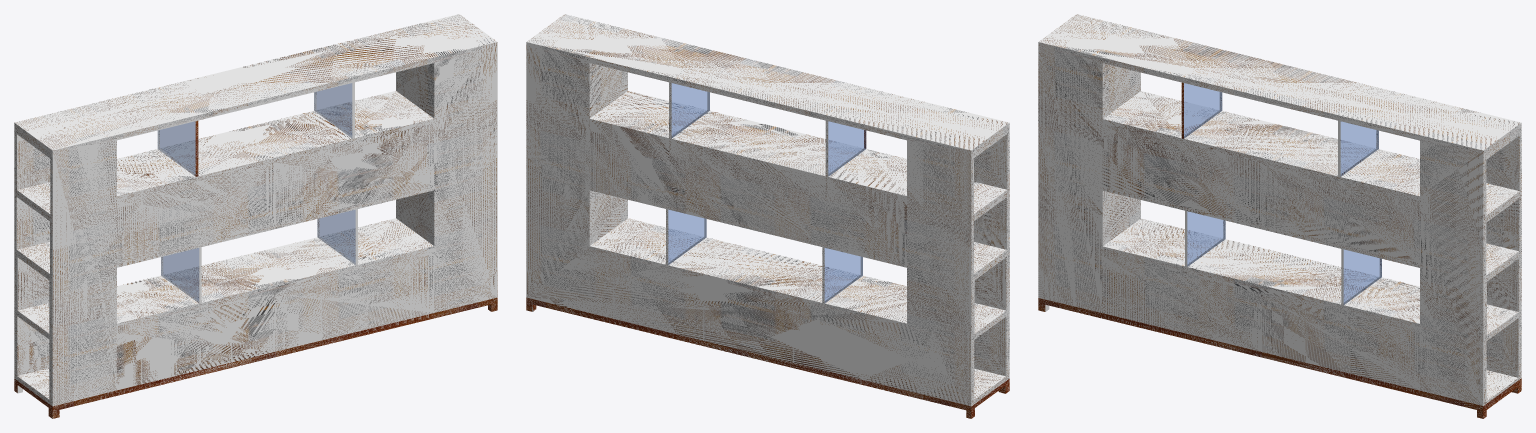
3 views of the same model, side by side, from view 1: azimuth 30°, elevation 25°; view 2: azimuth 150°, elevation 25°; view 3: azimuth 330°, elevation 25° (orthographic).
Visible parts, largest first — view 1: mesh1_mesh1-geometry; view 2: mesh1_mesh1-geometry; view 3: mesh1_mesh1-geometry.
Part boxes in pixels (x1,y1,x2,y2): mesh1_mesh1-geometry: [14, 14, 497, 418]; mesh1_mesh1-geometry: [526, 14, 1009, 418]; mesh1_mesh1-geometry: [1038, 14, 1521, 418].
Size of the model in its own units: 0.8593 by 0.4951 by 0.128.
